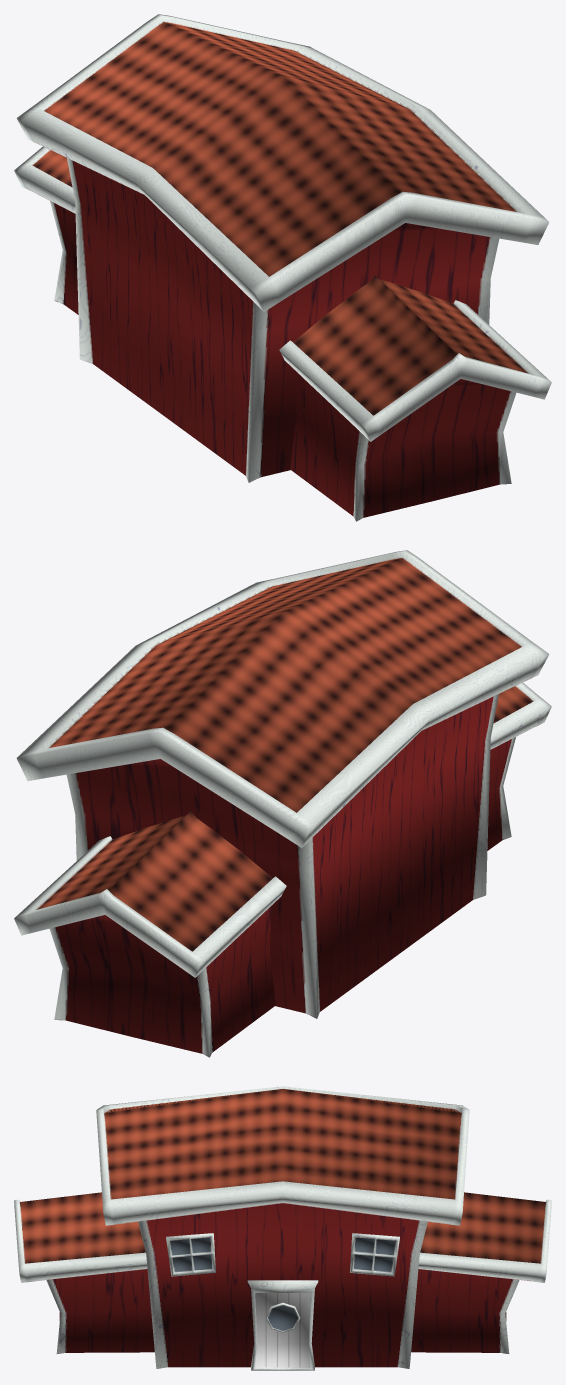
The model's file is Large House.fbx.
3 renders of one model, top to bottom at view 1: azimuth 30°, elevation 25°; view 2: azimuth 150°, elevation 25°; view 3: azimuth 270°, elevation 25°, orthographic. The views are drawn at different scales.
Parts seen in each view (by area): view 1: House Large; view 2: House Large; view 3: House Large.
Part boxes in pixels (left/top/right/bottom): House Large: left=14, top=14, right=551, bottom=521; House Large: left=14, top=550, right=551, bottom=1057; House Large: left=14, top=1086, right=551, bottom=1370.
Bounding box in the file's own units: 571 × 583 × 1200.
1 material, 1 textured.
